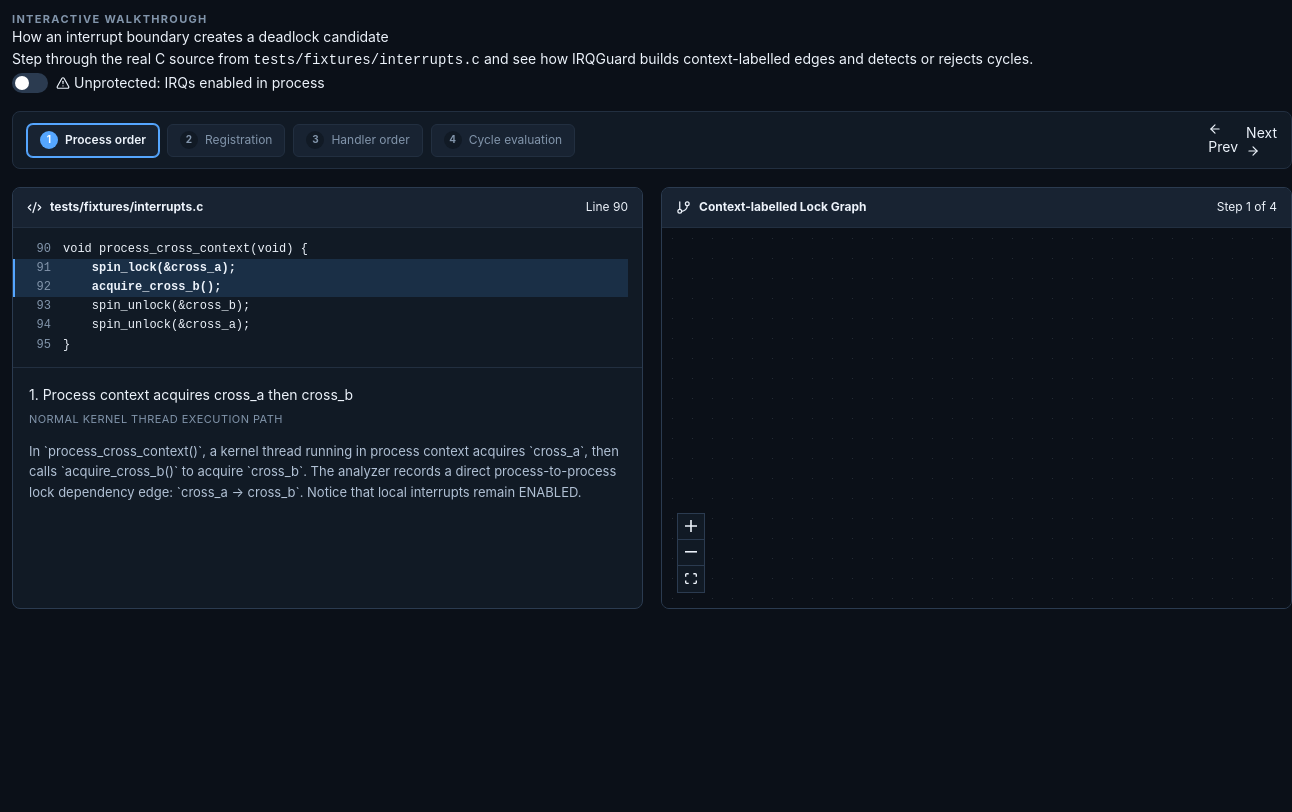
Scenario: WalkthroughPage › toggles protection with irqsave/local_irq_disable showing rejected candidate
Click the checkbox labelled "Unprotected: IRQs enabled in process".
click(168, 83)  # box [12,72,325,93]
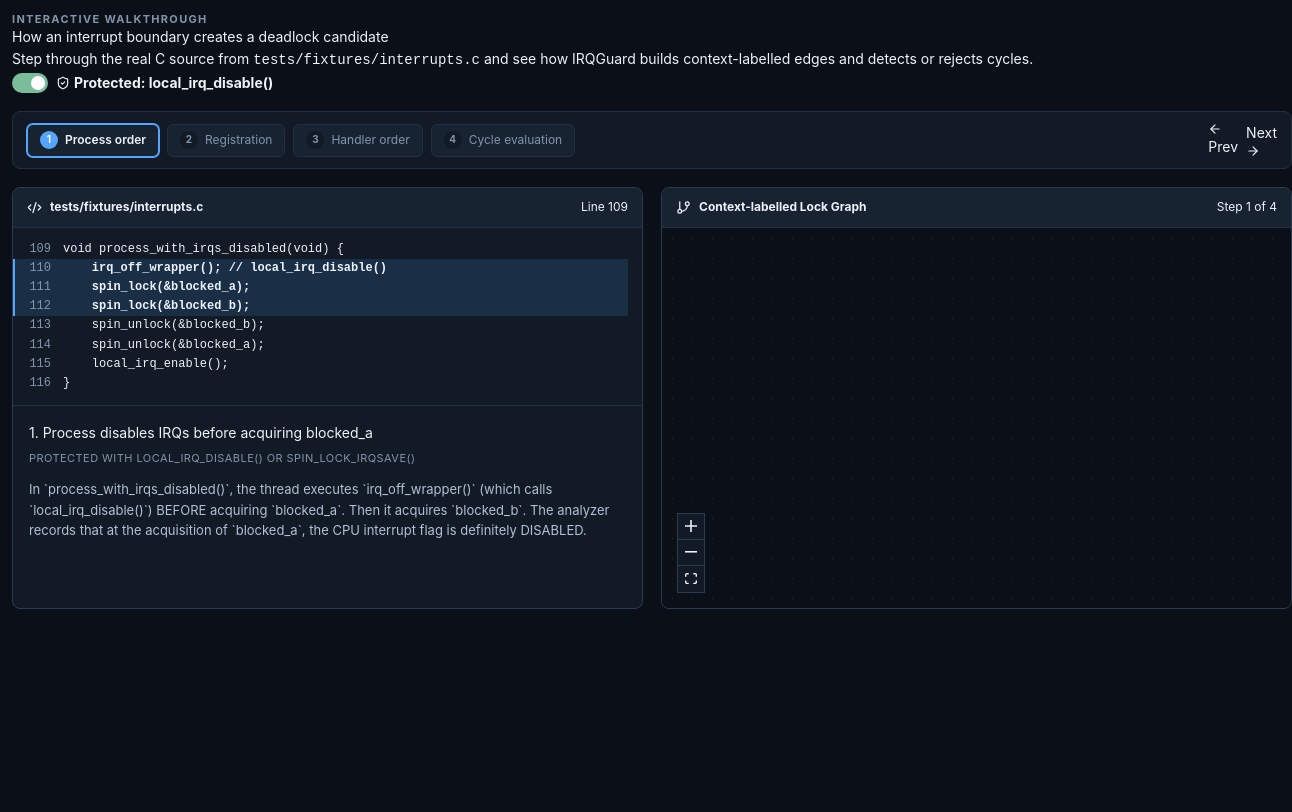
Expected: the checkbox named "Unprotected: IRQs enabled in process" is checked, [12,72,273,93]
Expected: the text "spin_lock(&blocked_a);" is shown, [63,278,250,297]
Expected: the text "spin_lock(&blocked_b);" is shown, [63,297,250,316]
# Advance to step 4 in protected mode
Click the button with aria-label "Next step".
click(1262, 140)  # box [1246,122,1277,158]
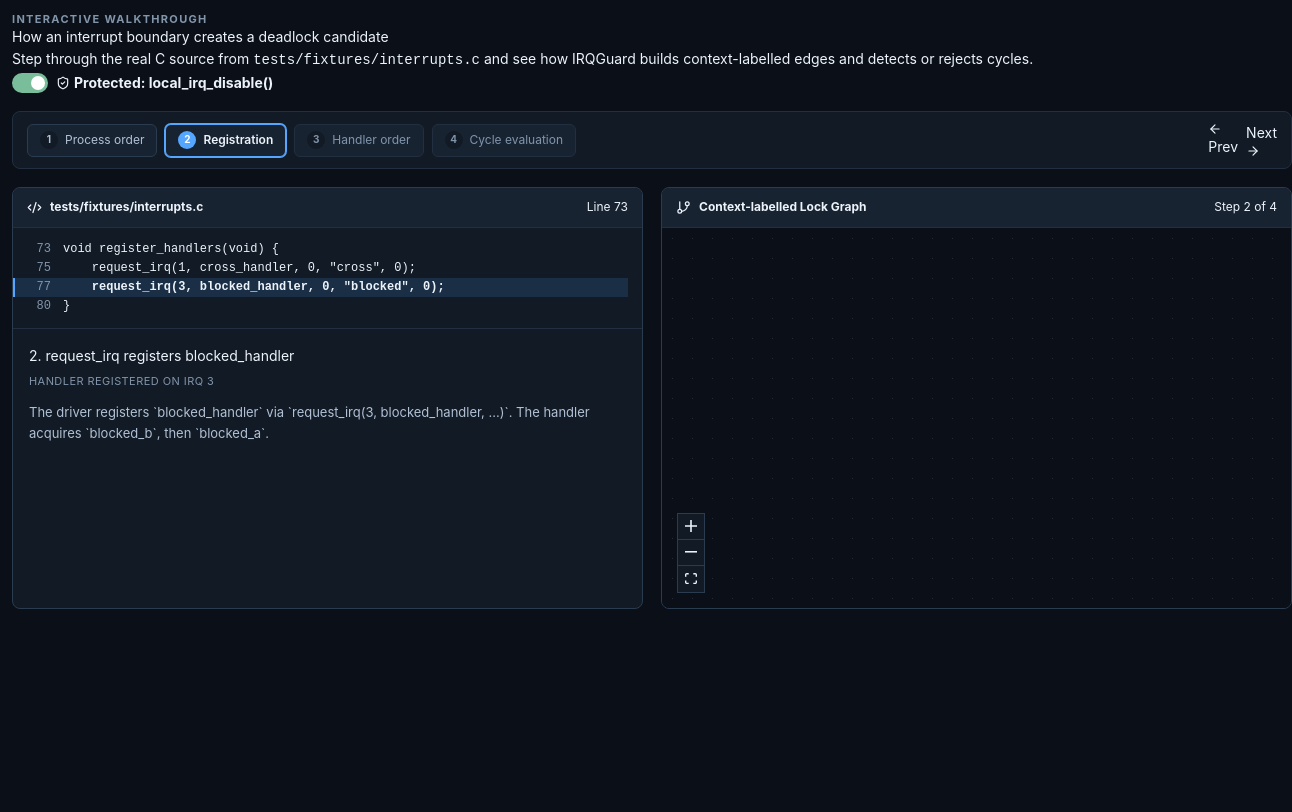
Click the button with aria-label "Next step".
click(1262, 140)  # box [1246,122,1277,158]
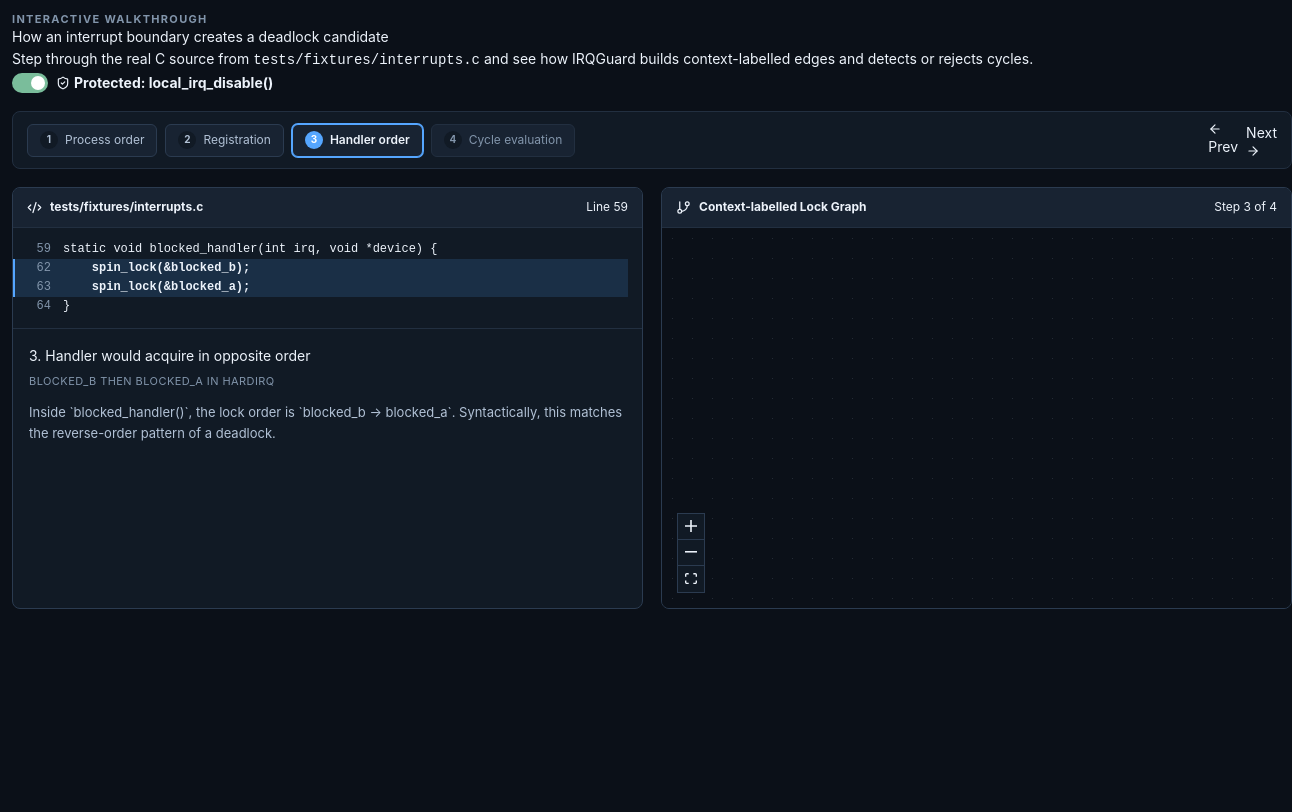
Click the button with aria-label "Next step".
click(1262, 140)  # box [1246,122,1277,158]
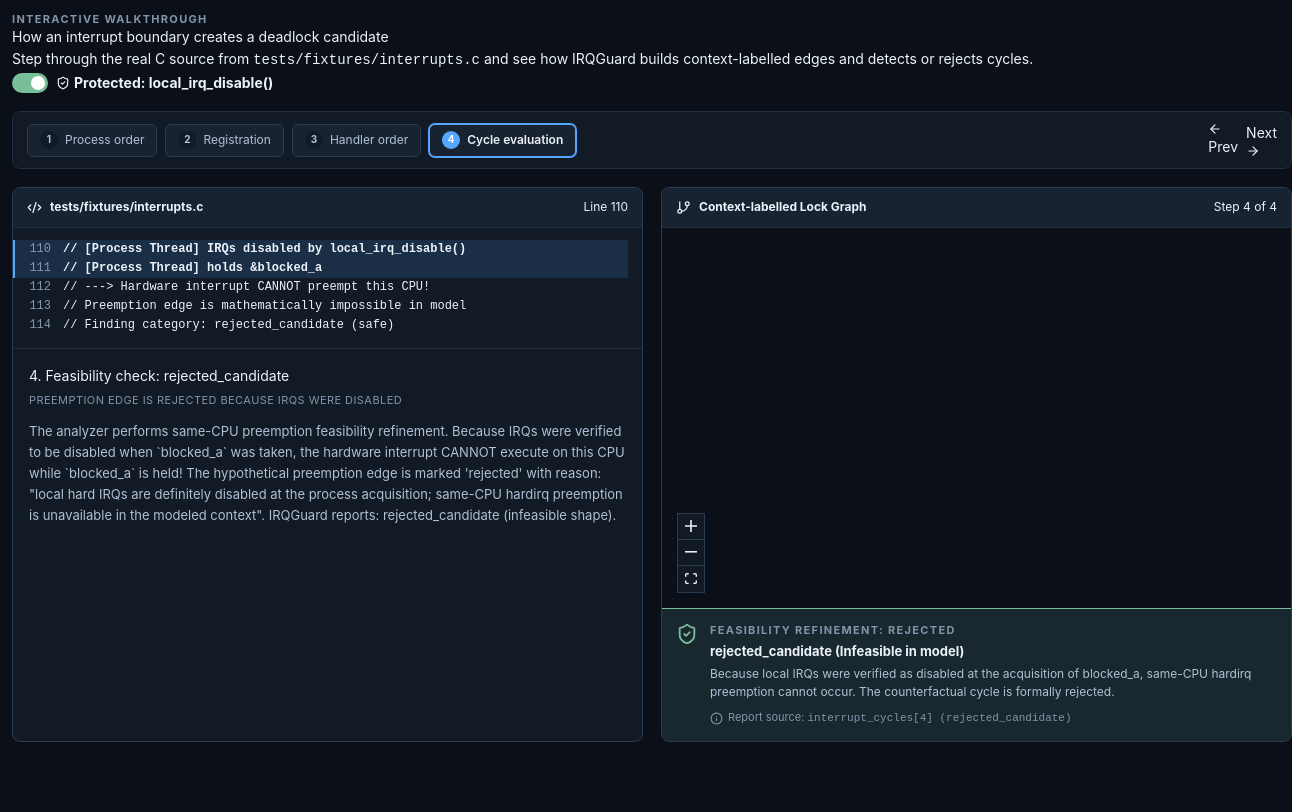
Expected: the text "// Finding category: rejected_candidate (safe)" is shown, [63,316,394,336]
Expected: the text "Preemption edge is rejected because IRQs were disabled" is shown, [29,393,402,407]
